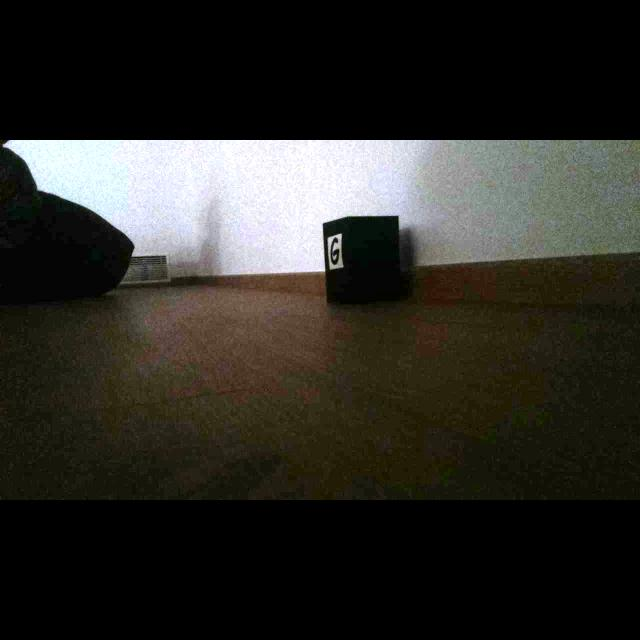G: (330, 237, 339, 265)
